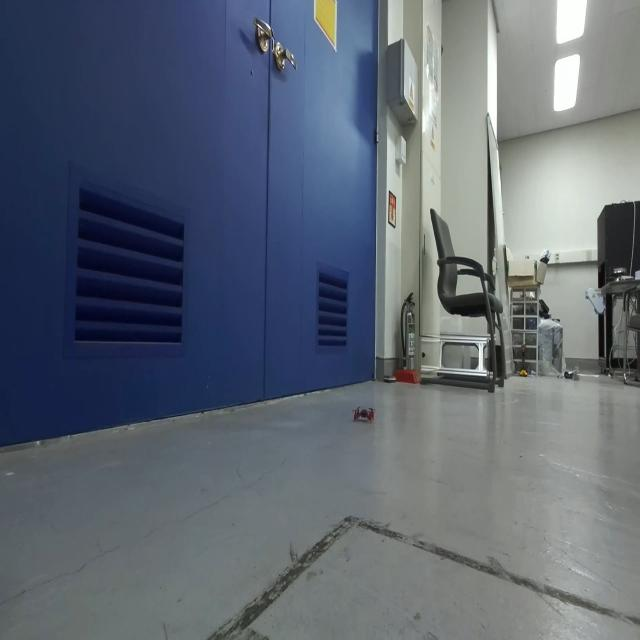crazyflie: (350, 400, 379, 427)
